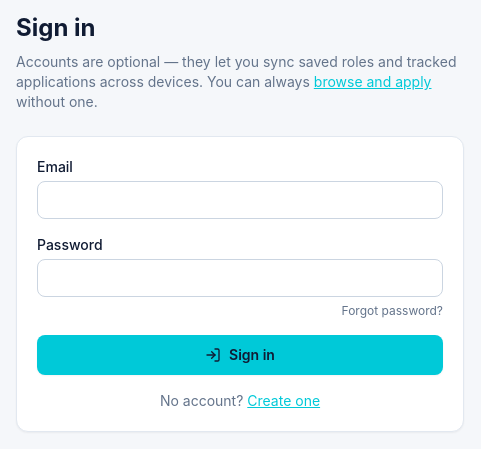
it: SignIn page › shows the confirmation card when sign-up needs email confirmation
Click the button "Create one": click(284, 401) [247,391,320,411]
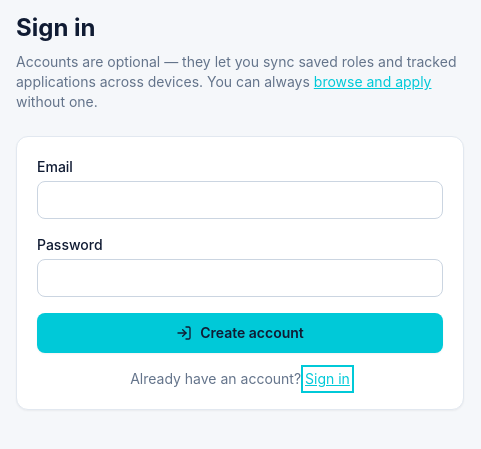
In the field labelled "Email": (240, 200) [37,181,443,219], type "new@b.c"
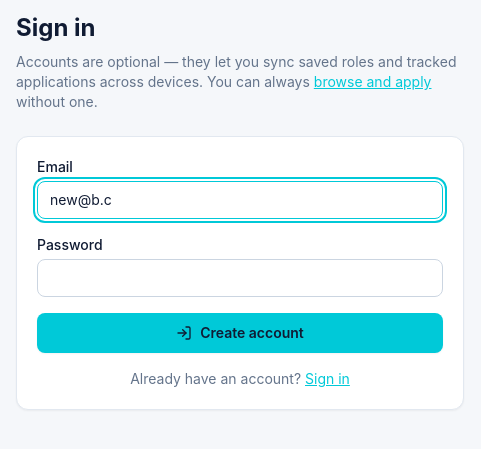
In the password field labelled "Password": (240, 278) [37,259,443,297], type "secret123"
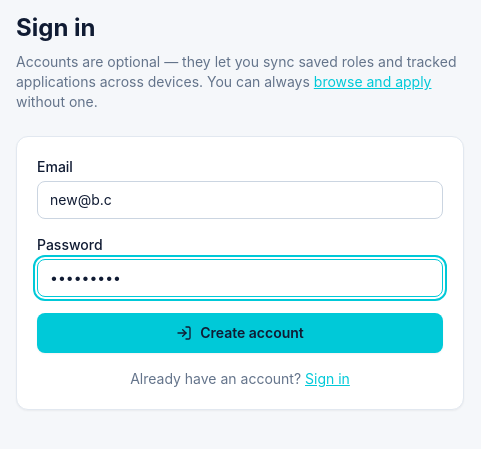
Click the button "Create account": click(240, 333) [37,313,443,353]
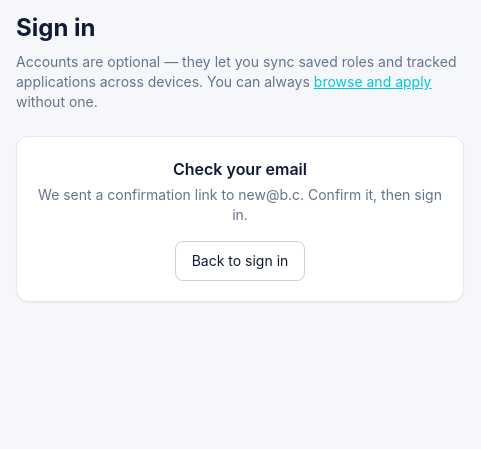
Expected: the text "Check your email" is shown, [173,159,307,179]
